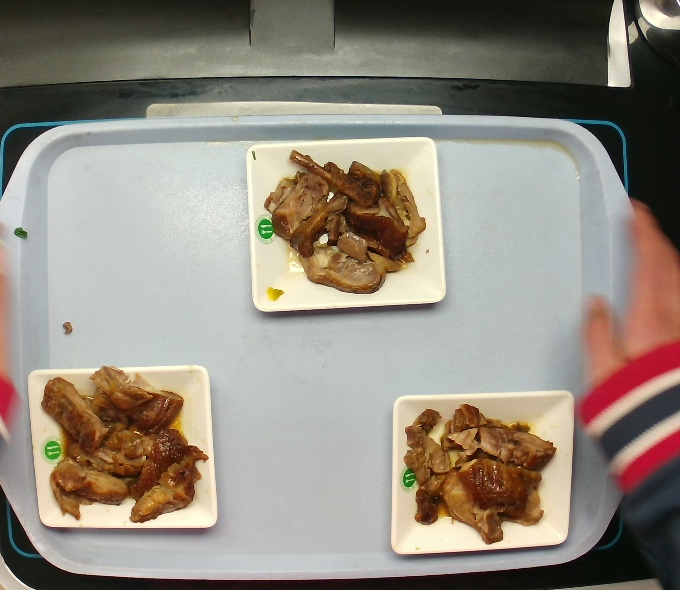wcq-YaRou: (42, 353, 207, 534), (252, 145, 431, 301), (404, 401, 550, 536)
